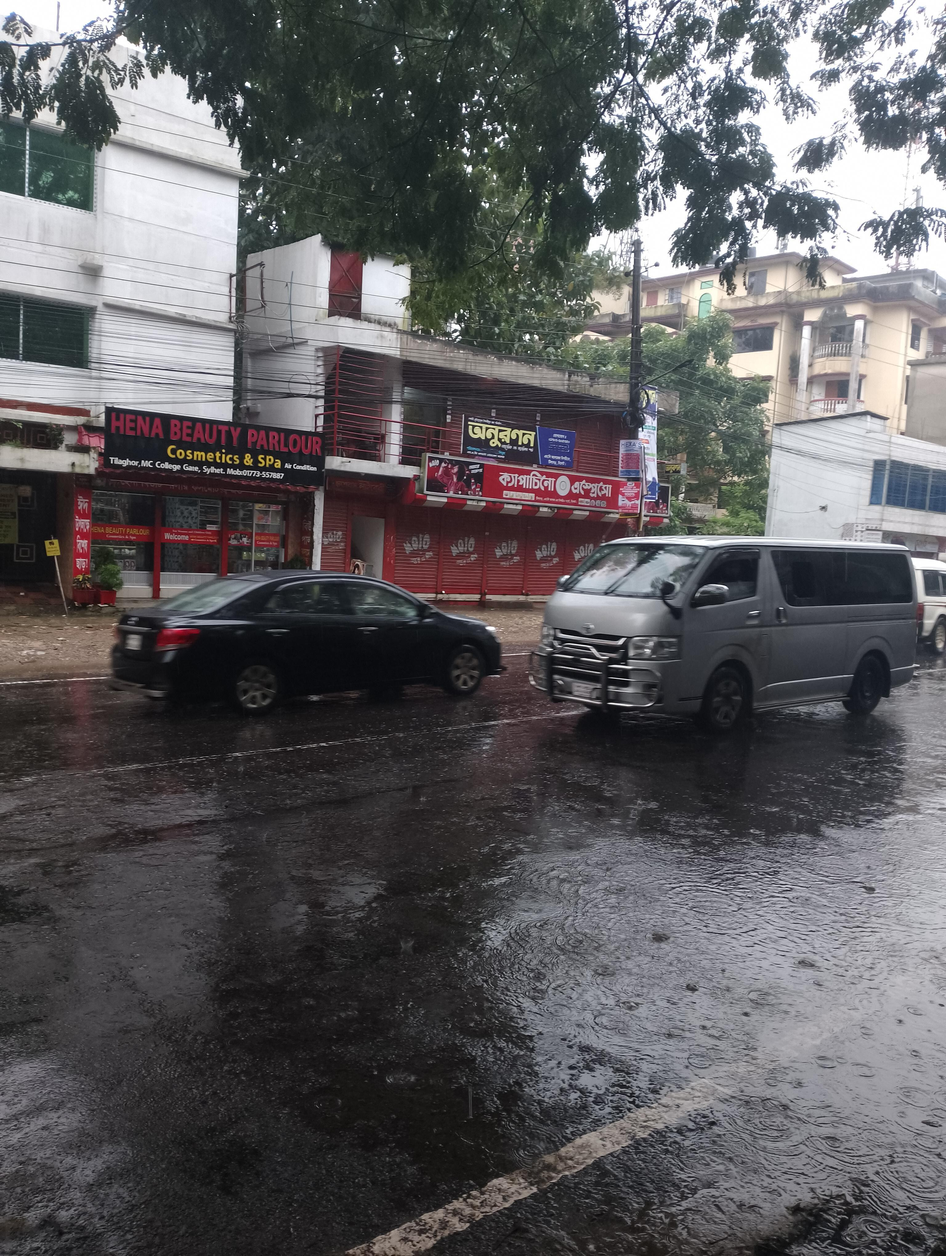Car: (519, 482, 941, 767), (79, 520, 521, 734)
